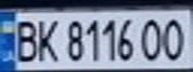1: (81, 16, 103, 62), (100, 15, 121, 62)
6: (115, 15, 139, 62)
8: (63, 16, 84, 62)
B: (9, 16, 42, 63)
K: (33, 16, 60, 63)
O: (160, 15, 190, 62), (139, 15, 166, 63)
